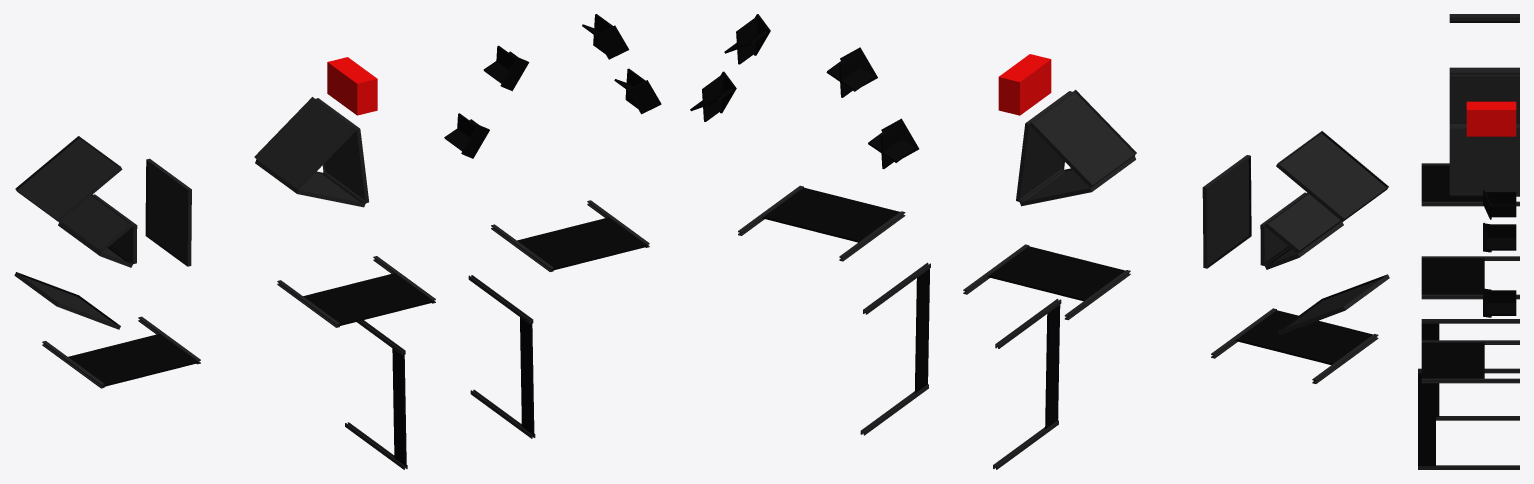
Rendered from FR_prova3.obj.
3 renders of one model, left to right at view 1: azimuth 30°, elevation 25°; view 2: azimuth 150°, elevation 25°; view 3: azimuth 270°, elevation 25°, orthographic. The views are drawn at different scales.
Bounding box in the file's own units: 343 × 195 × 58.
